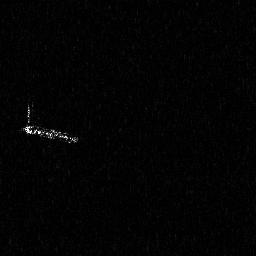ship: (19, 101, 79, 147)
